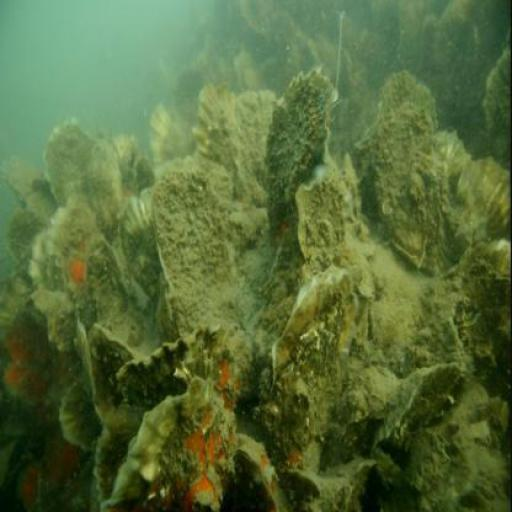Oyster-Closed: (106, 382, 237, 512), (154, 175, 243, 321), (267, 77, 339, 249), (116, 332, 241, 416)
Oyster-Open: (271, 268, 359, 479), (30, 209, 136, 352)
